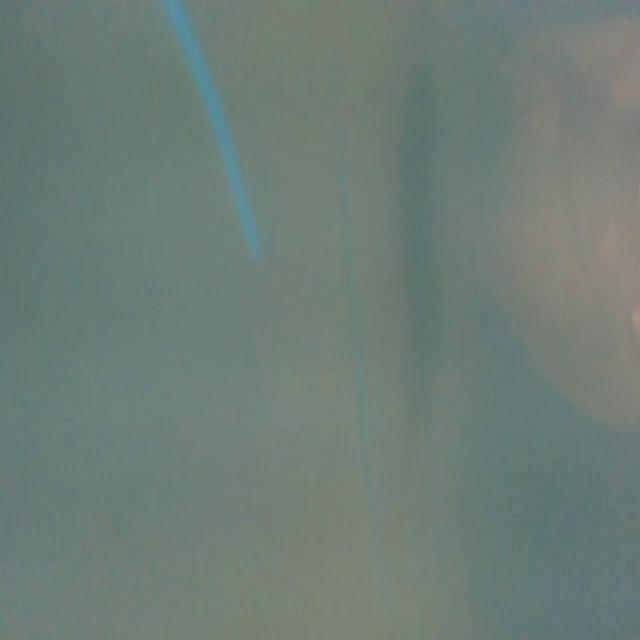plastic bags: (483, 25, 640, 435)
